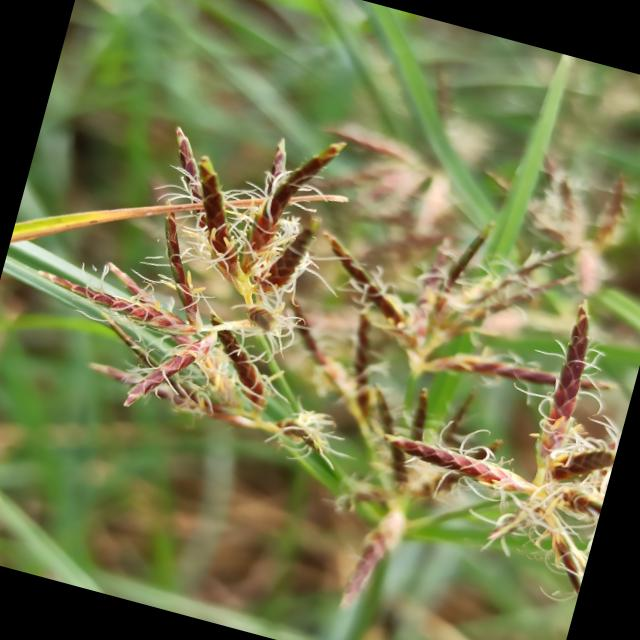cyperus: (8, 79, 640, 601), (330, 189, 580, 393), (480, 142, 640, 300), (318, 119, 465, 237)
